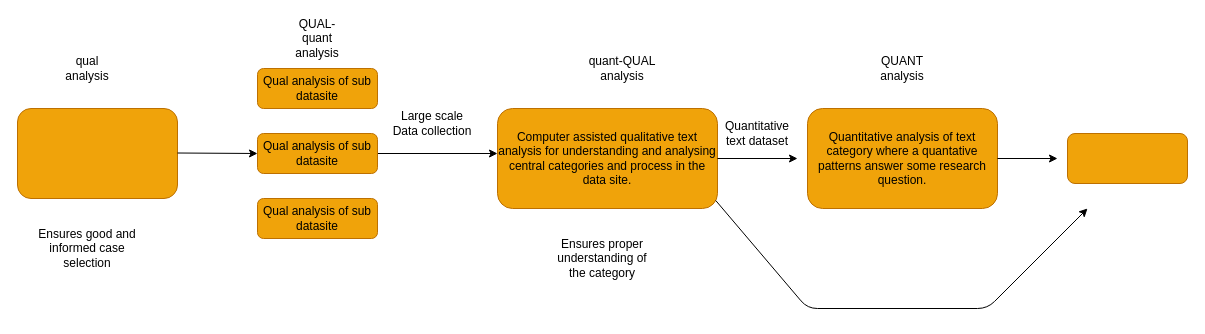
Some shapes in this 1205 by 334 pixel diagram are drawn without their labels. The shapes that lost their labels are listed below. From the top down, each one's centre as x and y in pixels, then its label:
the point at 97,153: Netnography scouting, evaluating and selection of data site
the point at 1127,158: Joint analysis
